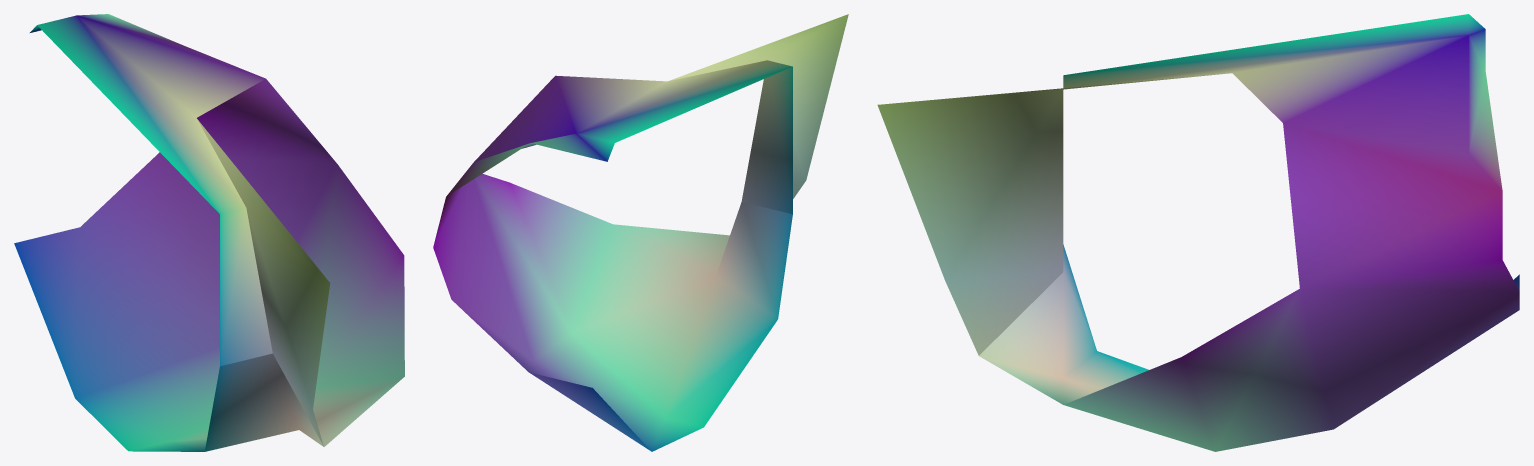
3 views of the same model, side by side, from view 1: azimuth 30°, elevation 25°; view 2: azimuth 150°, elevation 25°; view 3: azimuth 270°, elevation 25° (orthographic). The views are drawn at different scales.
Parts seen in each view (by area): view 1: part; view 2: part; view 3: part.
Part boxes in pixels (x1,y1,x2,y2): part: [14, 14, 404, 451]; part: [433, 14, 848, 451]; part: [877, 14, 1519, 451].
Bounding box in the file's own units: 18 × 26 × 38.
